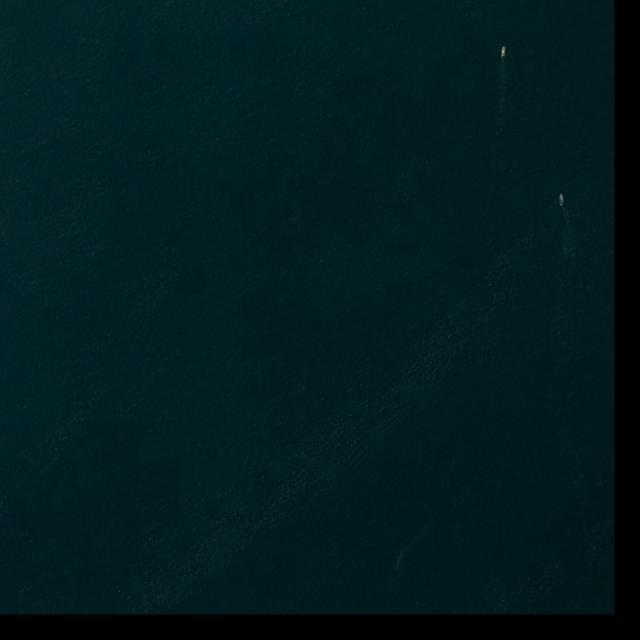ship: (500, 46, 506, 58), (559, 194, 564, 206)
